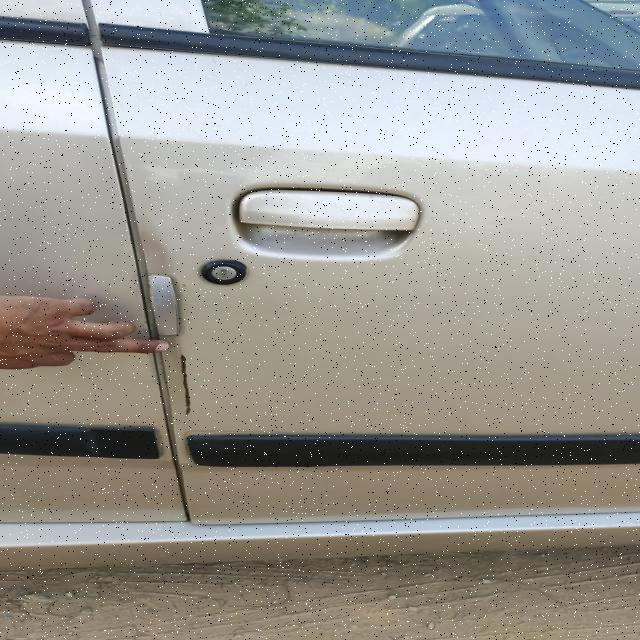car damage: (134, 55, 639, 521)
